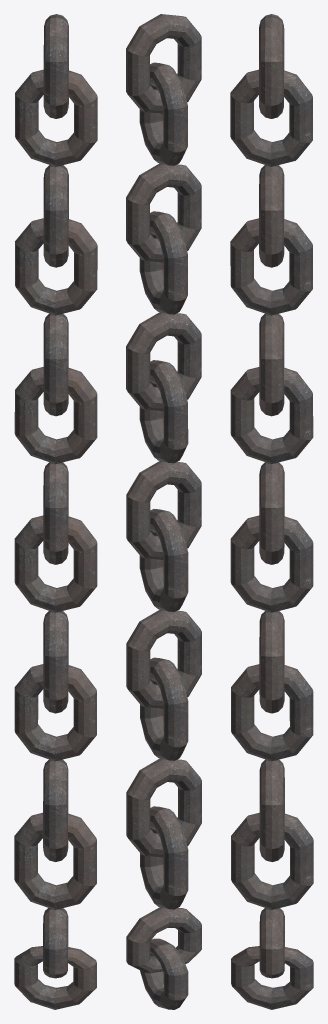
Rendered from SM_ChainLink_01_Splines_6.fbx.
The picture shows the model from 3 angles, left to right: view 1: azimuth 90°, elevation 25°; view 2: azimuth 210°, elevation 25°; view 3: azimuth 270°, elevation 25°; orthographic projection.
Visible parts, largest first — view 1: SM_ChainLink_01_Splines_6; view 2: SM_ChainLink_01_Splines_6; view 3: SM_ChainLink_01_Splines_6.
Part boxes in pixels (<box>): SM_ChainLink_01_Splines_6: <box>14,14,97,1009</box>; SM_ChainLink_01_Splines_6: <box>126,14,201,1009</box>; SM_ChainLink_01_Splines_6: <box>230,14,313,1009</box>.
Size of the model in its own units: 3.99 by 4.01 by 52.62.
